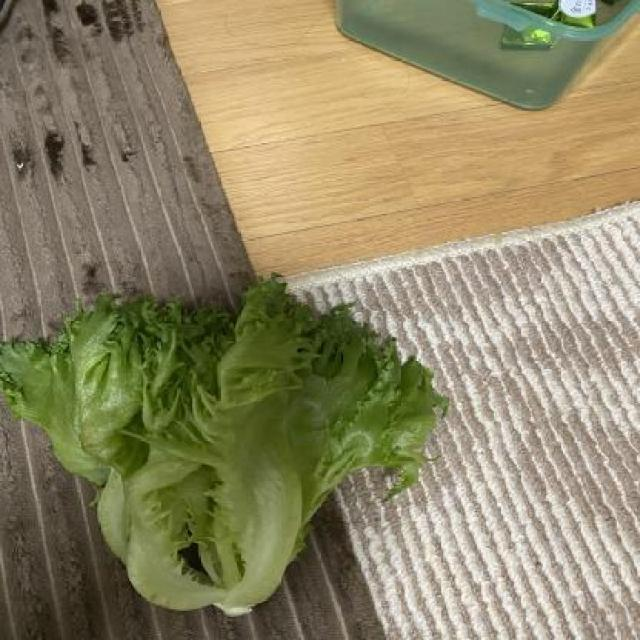Lettuce: (0, 270, 450, 614)
